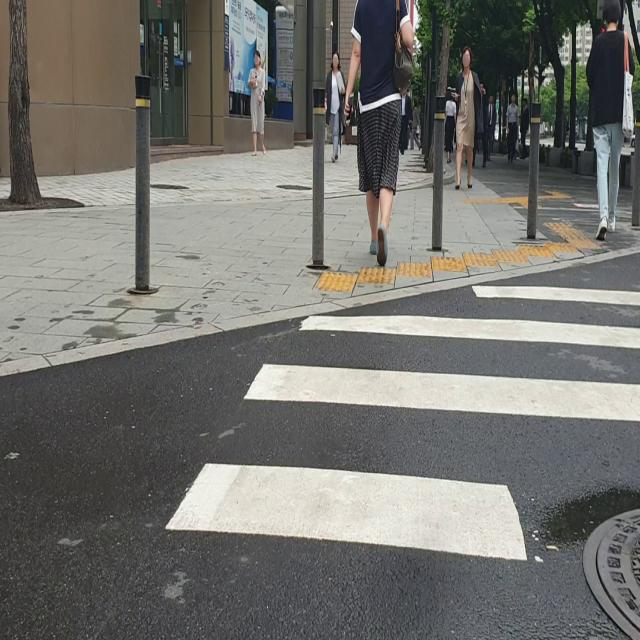횡단보도: (162, 284, 640, 564)
